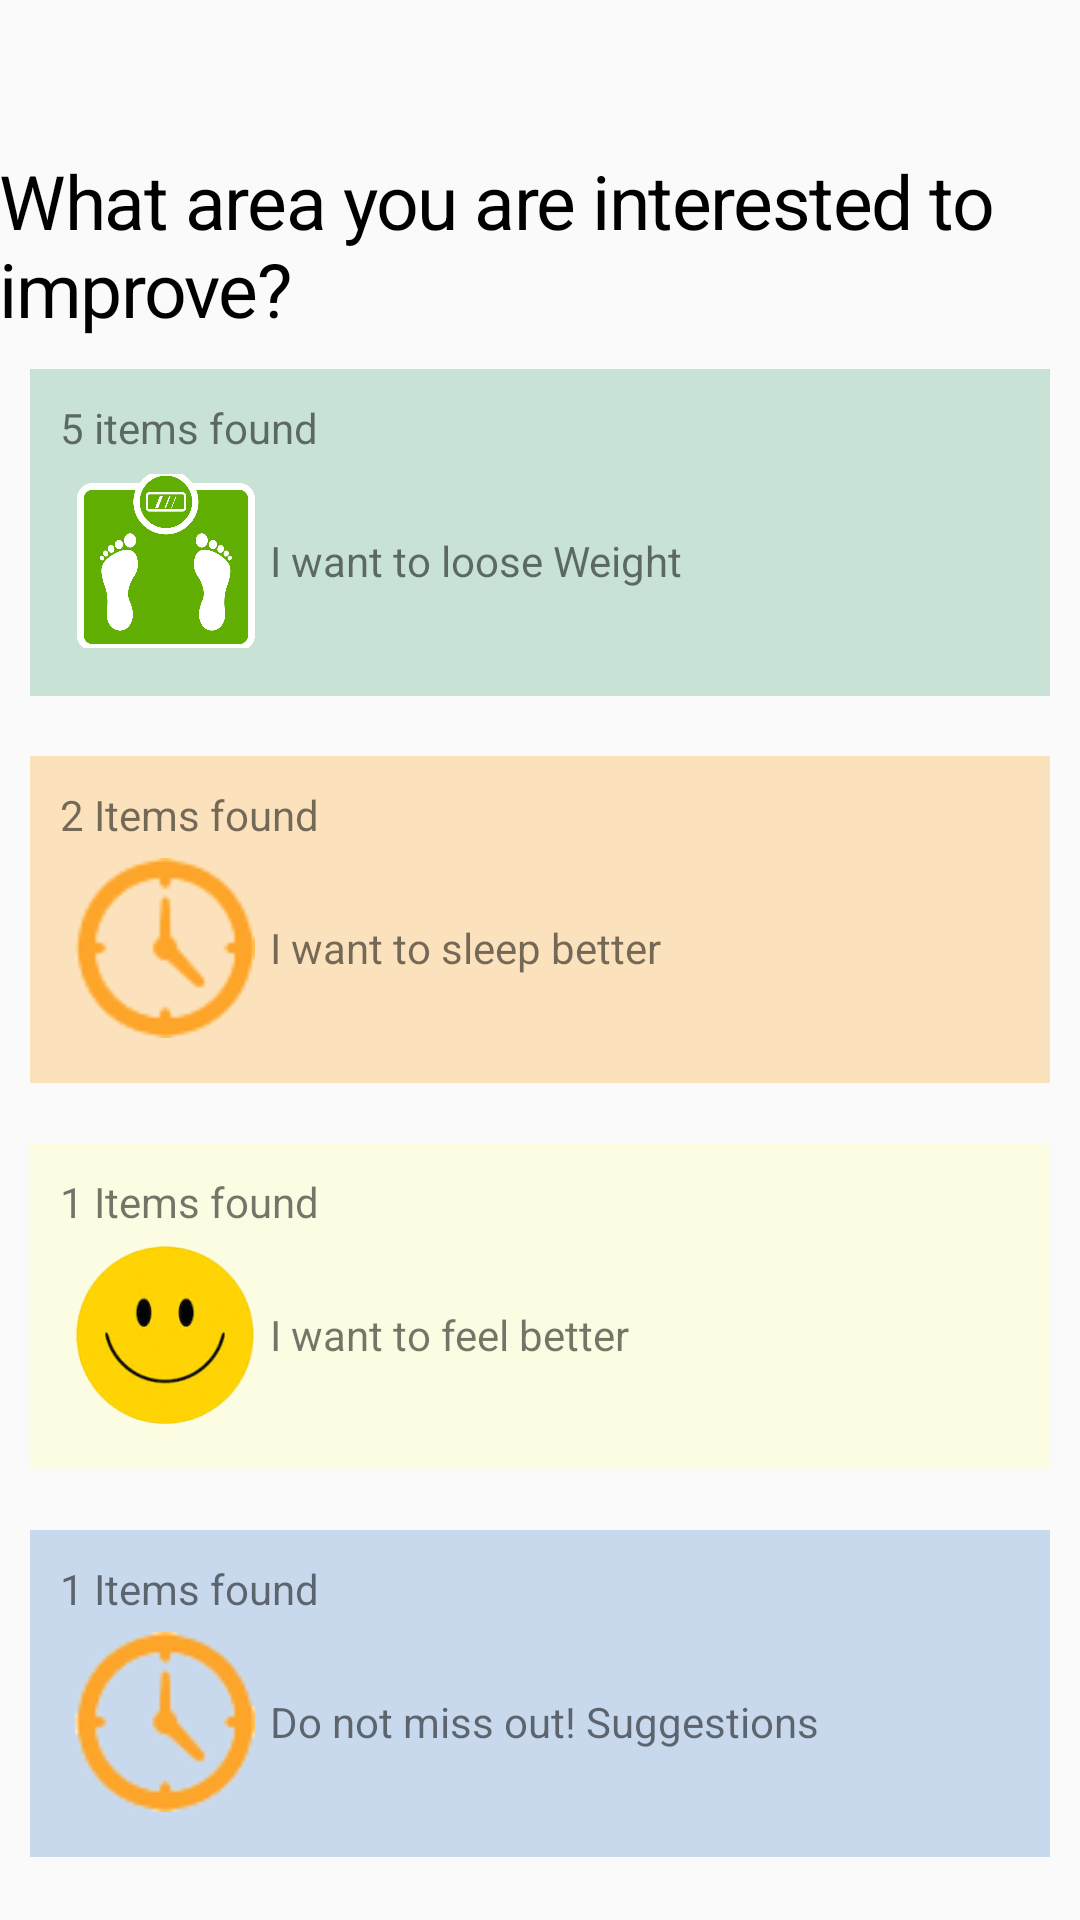

Icons on this 1080 x 1920 Android screen, each with the point to tap as point (x, y):
clock: point (165, 948), point (165, 1722)
happy: point (165, 1335)
